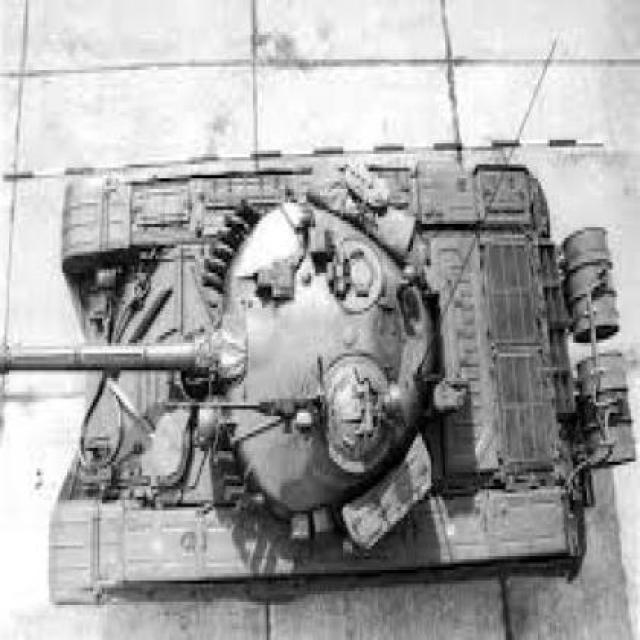tank: (0, 149, 631, 592)
